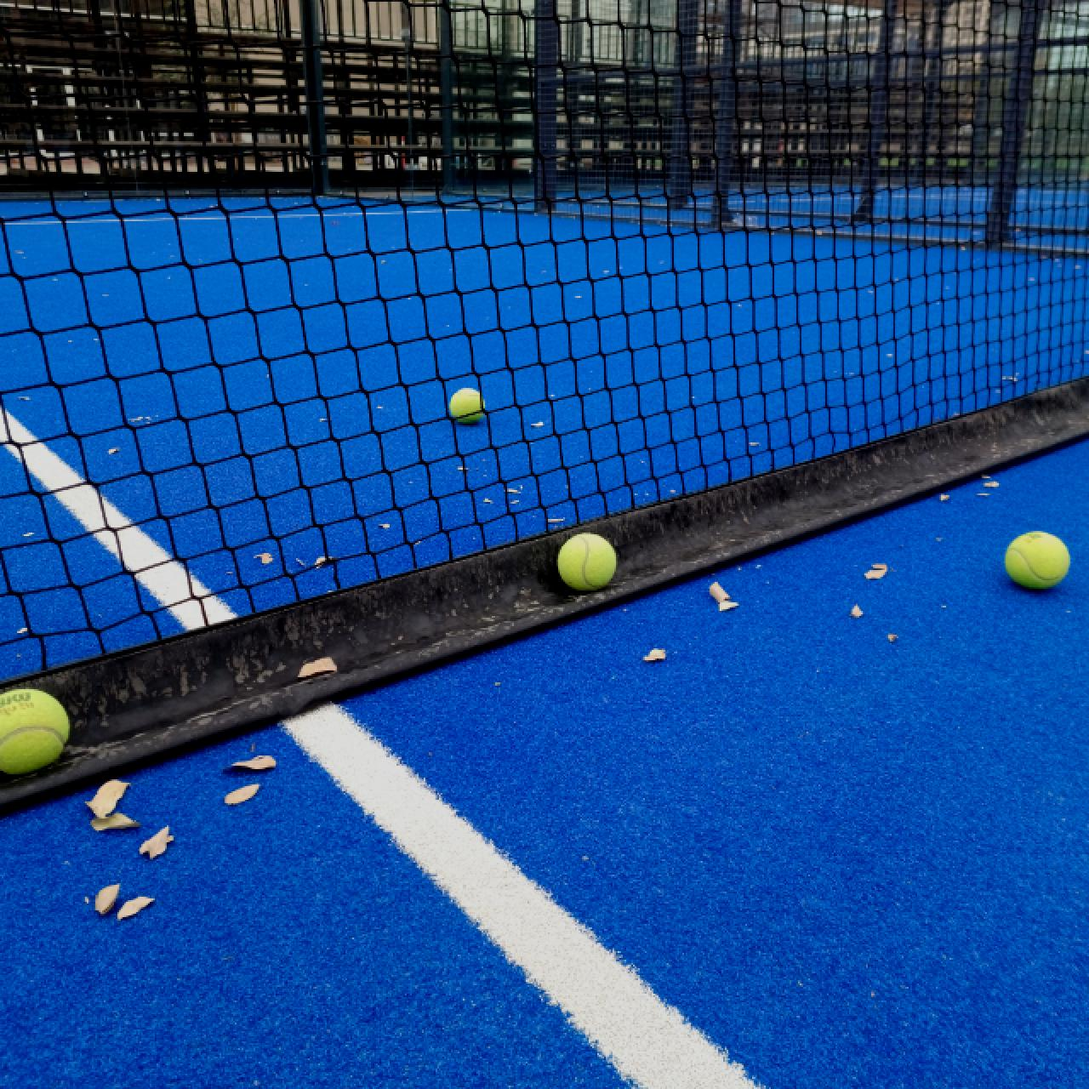tennis-ball: (0, 685, 68, 775), (555, 527, 619, 592), (1004, 529, 1070, 590), (449, 387, 486, 424)
